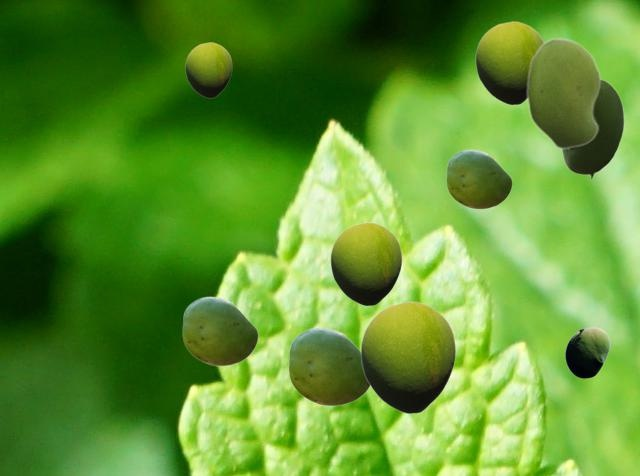green_mango: (360, 301, 455, 413), (526, 37, 600, 149), (288, 327, 369, 405), (561, 78, 623, 179), (330, 222, 401, 305), (475, 21, 544, 104), (182, 296, 257, 365), (446, 149, 511, 208), (185, 42, 231, 97), (565, 327, 609, 377)
